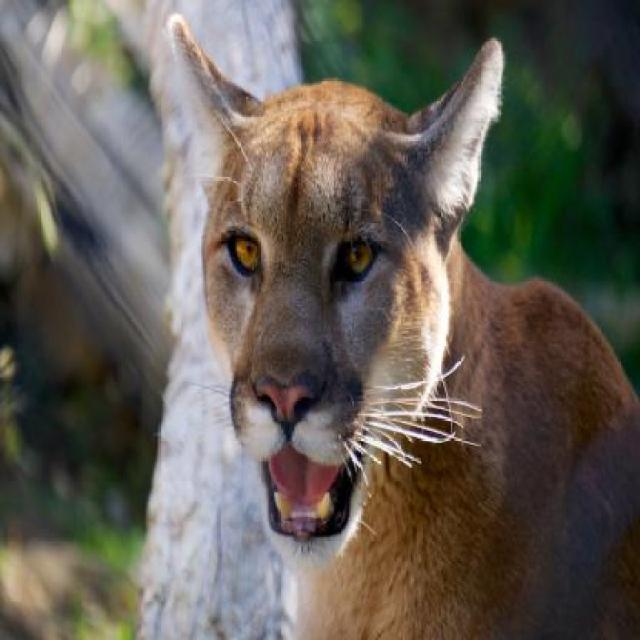Lion: (143, 23, 637, 639)
